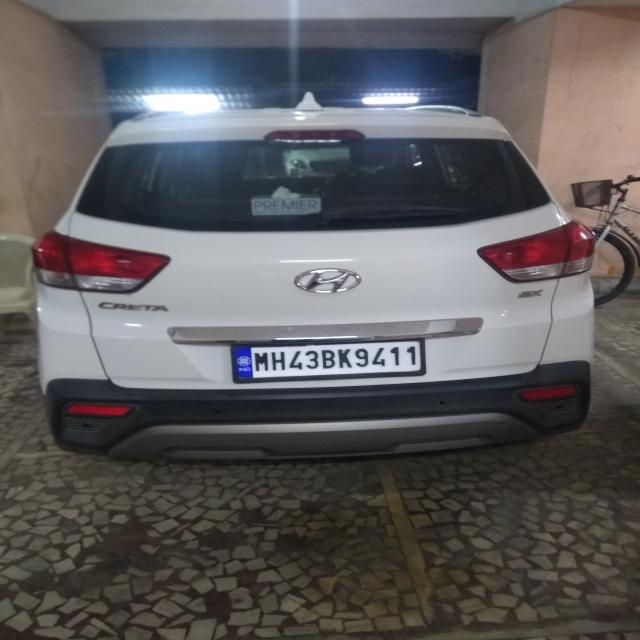Number-Plate: (236, 341, 424, 382)
